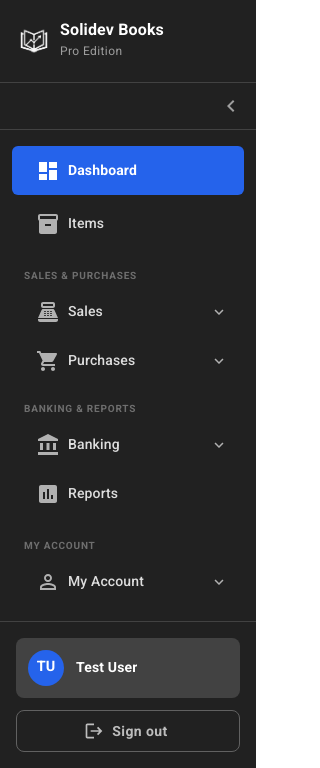
Test: Sidebar › expands Sales section on click
Click the button "Sales": (85, 311) [36,300,228,324]
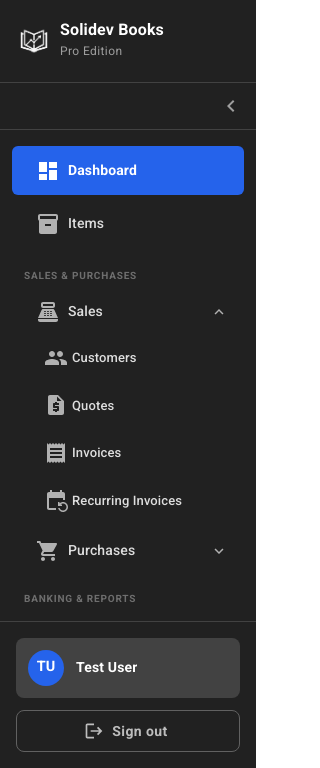
Expected: the text "Customers" is shown, [72,350,137,365]
Expected: the text "Invoices" is shown, [72,445,121,460]
Expected: the text "Quotes" is shown, [72,398,114,413]
